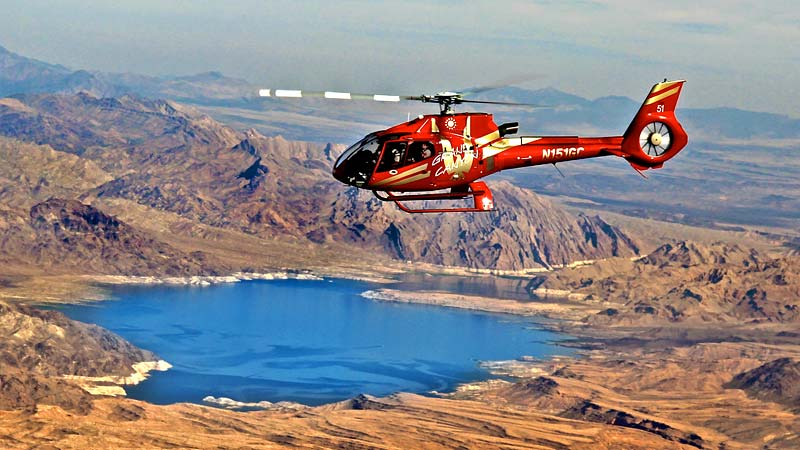Helicopter: (279, 75, 709, 219)
